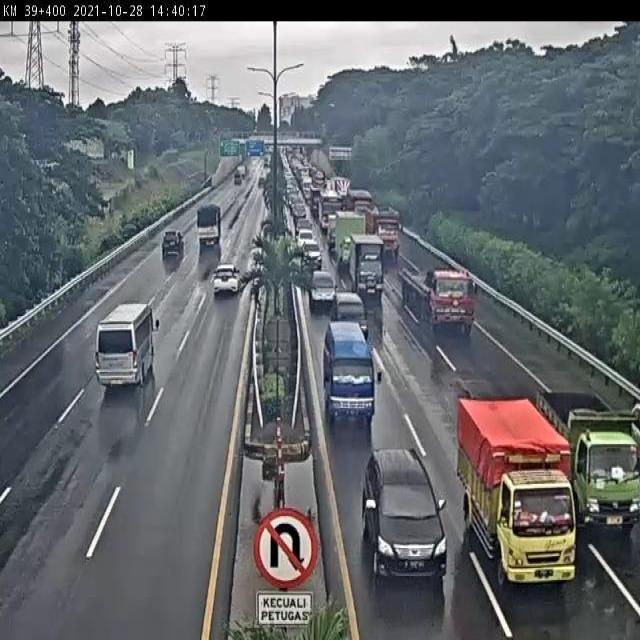bus-s-: (322, 323, 375, 429)
car: (360, 444, 447, 581), (332, 294, 369, 338), (211, 260, 242, 299), (308, 271, 336, 313), (300, 239, 323, 268), (161, 230, 186, 254)
small bus: (96, 301, 157, 392)
truck-l-: (364, 204, 402, 256)
truck-m-: (452, 397, 576, 595), (534, 383, 640, 532), (348, 229, 385, 300), (335, 207, 365, 273)
truck-xl-: (399, 260, 476, 337)
